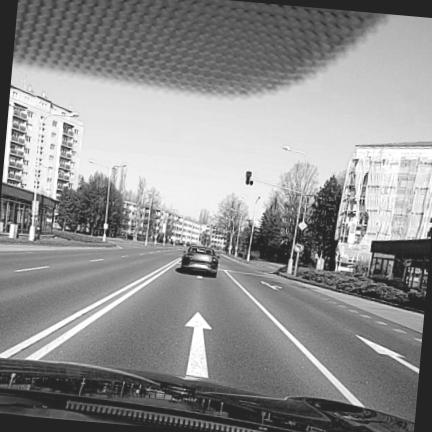Road: (0, 245, 422, 421)
